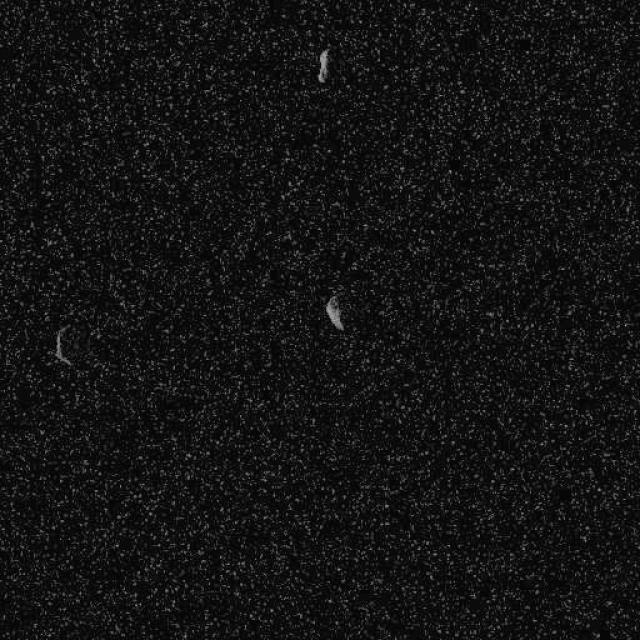D2: (52, 324, 72, 366), (324, 294, 344, 331), (315, 48, 330, 82)
